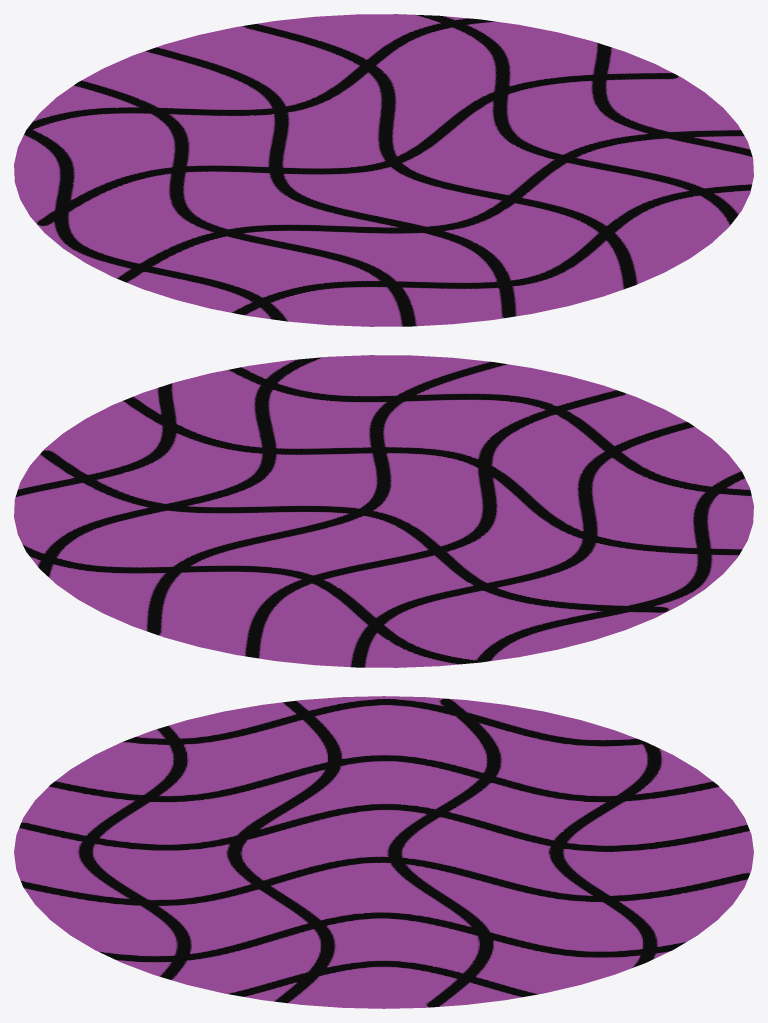
The model's file is reset2.fbx.
The picture shows the model from 3 angles, top to bottom: view 1: azimuth 30°, elevation 25°; view 2: azimuth 150°, elevation 25°; view 3: azimuth 270°, elevation 25°; orthographic projection.
Parts seen in each view (by area): view 1: pDisc1; view 2: pDisc1; view 3: pDisc1.
Part boxes in pixels (<box>): pDisc1: <box>14,14,753,326</box>; pDisc1: <box>14,355,753,667</box>; pDisc1: <box>14,696,753,1008</box>.
Size of the model in its own units: 10 by 0 by 10.
Materials: 1 (1 with a texture image).
